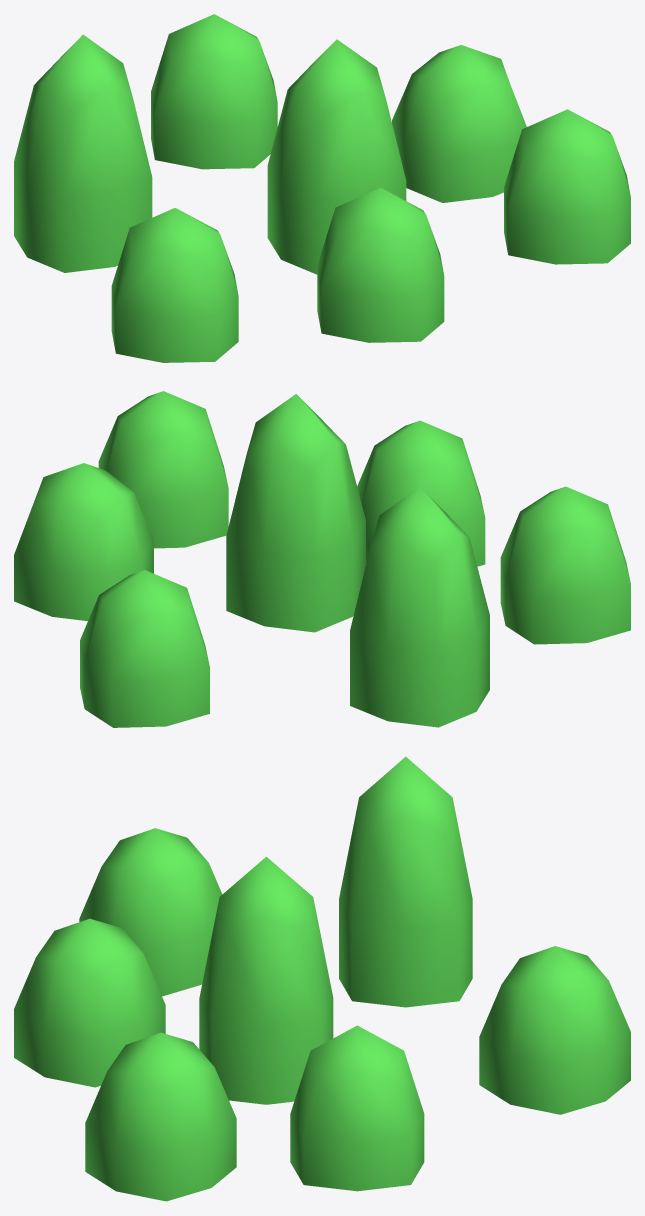
Rendered from enviro_grass.fbx.
3 renders of one model, top to bottom at view 1: azimuth 30°, elevation 25°; view 2: azimuth 150°, elevation 25°; view 3: azimuth 270°, elevation 25°, orthographic. The views are drawn at different scales.
Visible parts, largest first — view 1: Cube; view 2: Cube; view 3: Cube.
Boxes of the visible parts, left/top/right/bottom form: Cube: left=14, top=14, right=630, bottom=362; Cube: left=14, top=391, right=630, bottom=727; Cube: left=14, top=756, right=630, bottom=1201.
Size of the model in its own units: 1183 by 456 by 1149.
